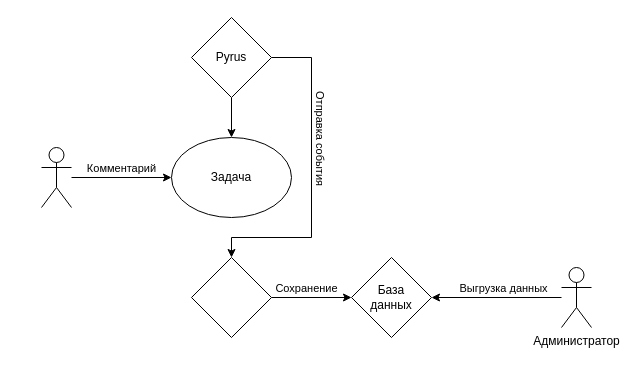
Some shapes in this 637 by 366 pixel diagram are drawn without their labels. Each missing label, with the box of its shape:
Бот: (190, 256, 272, 338)
Пользователь: (40, 146, 72, 208)
